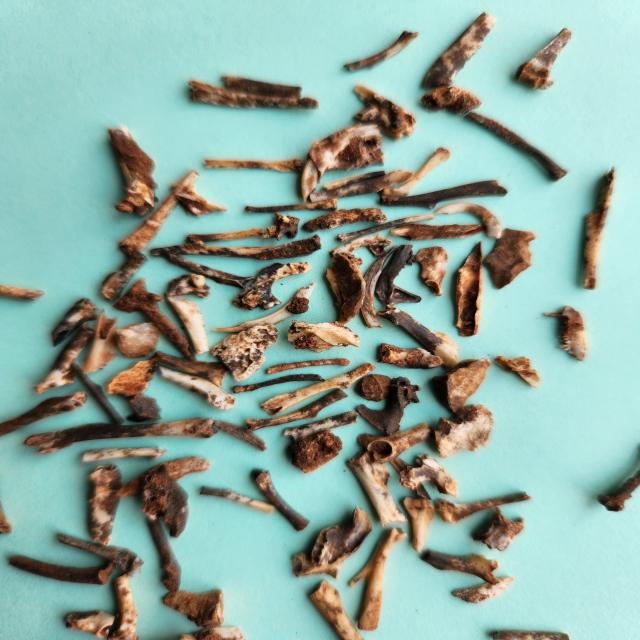fossil: (460, 110, 573, 186), (20, 416, 221, 458), (116, 165, 202, 262), (300, 118, 398, 203), (110, 276, 200, 363), (256, 359, 382, 417), (289, 502, 375, 584), (418, 10, 503, 92), (346, 526, 410, 632), (208, 278, 320, 335), (100, 121, 163, 220), (575, 162, 622, 293), (376, 302, 462, 372), (240, 387, 355, 438), (149, 231, 329, 263), (343, 448, 412, 528), (183, 78, 327, 116), (112, 454, 218, 505), (347, 374, 431, 438), (0, 389, 92, 447), (29, 320, 98, 396), (4, 550, 123, 594), (377, 143, 454, 208), (373, 176, 512, 212), (227, 256, 316, 312), (481, 226, 547, 299), (511, 26, 582, 92), (341, 26, 426, 78), (138, 463, 194, 541), (348, 82, 420, 142), (301, 166, 417, 203), (248, 468, 313, 534), (54, 530, 147, 576), (80, 460, 127, 550), (428, 357, 497, 418), (154, 363, 239, 412), (432, 402, 502, 461), (306, 577, 370, 640), (434, 489, 544, 525), (165, 251, 260, 292), (144, 502, 186, 594), (322, 248, 369, 330), (351, 420, 441, 462), (417, 545, 504, 588), (451, 240, 488, 340), (145, 348, 239, 387), (355, 243, 397, 330), (70, 360, 125, 426), (369, 242, 425, 306), (160, 292, 214, 357), (334, 212, 439, 244), (77, 306, 124, 377), (398, 449, 463, 500), (161, 586, 238, 629), (46, 293, 102, 351), (540, 304, 592, 366), (588, 459, 640, 520), (469, 505, 533, 554), (95, 249, 154, 302), (283, 430, 349, 477), (284, 315, 362, 354), (282, 407, 362, 445), (103, 354, 162, 405), (433, 198, 503, 240), (300, 203, 389, 235), (196, 483, 276, 518), (166, 179, 235, 219), (103, 570, 141, 640), (228, 371, 331, 396), (445, 572, 518, 607), (491, 348, 548, 392), (218, 72, 307, 100), (73, 444, 175, 468), (387, 452, 435, 502), (200, 153, 309, 175), (373, 338, 445, 371), (401, 494, 437, 559), (210, 418, 270, 454), (238, 196, 346, 216), (413, 245, 452, 299), (58, 605, 119, 639), (318, 167, 391, 195), (262, 356, 352, 378), (161, 271, 218, 304), (327, 232, 394, 260), (182, 225, 269, 246), (119, 392, 170, 426), (260, 209, 305, 243), (352, 372, 397, 404), (0, 276, 52, 303), (486, 626, 574, 640), (176, 626, 253, 640), (0, 489, 17, 540)
